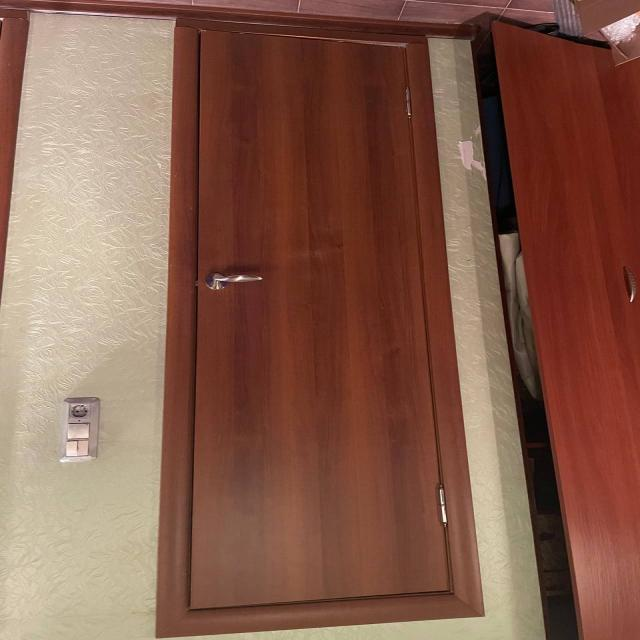close: (154, 22, 452, 638)
